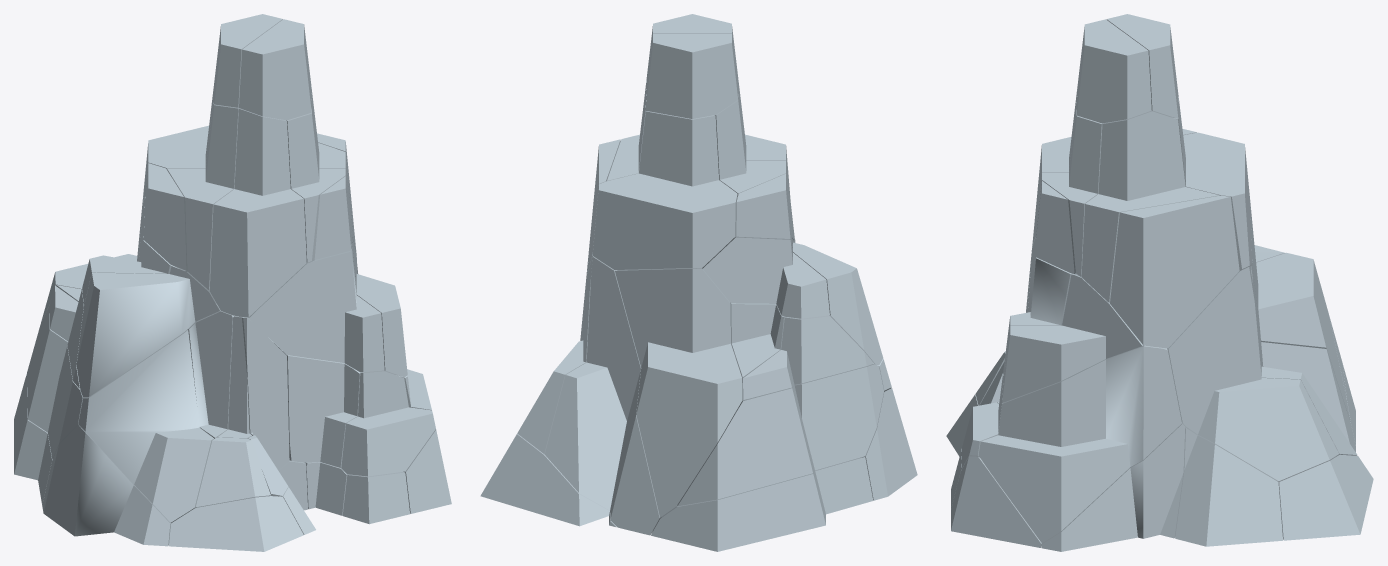
The model's file is formation_stone_destruct.fbx.
3 views of the same model, side by side, from view 1: azimuth 30°, elevation 25°; view 2: azimuth 150°, elevation 25°; view 3: azimuth 270°, elevation 25° (orthographic). The views are drawn at different scales.
Parts seen in each view (by area): view 1: formation_stone_cell.016, formation_stone_cell.021, formation_stone_cell.030, formation_stone_cell.022, formation_stone_cell.002, formation_stone_cell.027, formation_stone_cell.009, formation_stone_cell.032, formation_stone_cell, formation_stone_cell.033, formation_stone_cell.026, formation_stone_cell.005 (+20 smaller); view 2: formation_stone_cell.023, formation_stone_cell.024, formation_stone_cell.036, formation_stone_cell.005, formation_stone_cell.018, formation_stone_cell.029, formation_stone_cell.038, formation_stone_cell.008, formation_stone_cell.025, formation_stone_cell.030, formation_stone_cell.002, formation_stone_cell (+7 smaller); view 3: formation_stone_cell.014, formation_stone_cell.001, formation_stone_cell.007, formation_stone_cell.020, formation_stone_cell.019, formation_stone_cell.028, formation_stone_cell.003, formation_stone_cell.023, formation_stone_cell.025, formation_stone_cell.032, formation_stone_cell.024, formation_stone_cell.036 (+8 smaller).
Part boxes in pixels (bbox=[...]): formation_stone_cell.016: bbox=[78, 329, 213, 523]; formation_stone_cell.021: bbox=[209, 108, 306, 317]; formation_stone_cell.030: bbox=[76, 266, 219, 397]; formation_stone_cell.022: bbox=[248, 243, 384, 372]; formation_stone_cell.002: bbox=[42, 425, 170, 546]; formation_stone_cell.027: bbox=[341, 371, 435, 476]; formation_stone_cell.009: bbox=[268, 337, 363, 467]; formation_stone_cell.032: bbox=[239, 19, 311, 120]; formation_stone_cell: bbox=[167, 103, 239, 303]; formation_stone_cell.033: bbox=[169, 496, 303, 551]; formation_stone_cell.026: bbox=[239, 316, 289, 470]; formation_stone_cell.005: bbox=[27, 305, 83, 459]; formation_stone_cell.023: bbox=[615, 268, 742, 517]; formation_stone_cell.024: bbox=[593, 111, 737, 270]; formation_stone_cell.036: bbox=[545, 257, 661, 535]; formation_stone_cell.005: bbox=[677, 364, 883, 506]; formation_stone_cell.018: bbox=[651, 457, 873, 551]; formation_stone_cell.029: bbox=[645, 33, 738, 118]; formation_stone_cell.038: bbox=[703, 237, 829, 318]; formation_stone_cell.008: bbox=[743, 315, 873, 399]; formation_stone_cell.025: bbox=[480, 433, 616, 527]; formation_stone_cell.030: bbox=[792, 239, 883, 365]; formation_stone_cell.002: bbox=[862, 388, 917, 500]; formation_stone_cell: bbox=[715, 88, 793, 239]; formation_stone_cell.014: bbox=[978, 345, 1181, 542]; formation_stone_cell.001: bbox=[1167, 267, 1338, 481]; formation_stone_cell.007: bbox=[1110, 195, 1239, 348]; formation_stone_cell.020: bbox=[1081, 111, 1219, 303]; formation_stone_cell.019: bbox=[1175, 428, 1282, 546]; formation_stone_cell.028: bbox=[1002, 274, 1142, 402]; formation_stone_cell.003: bbox=[1042, 423, 1186, 551]; formation_stone_cell.023: bbox=[1250, 203, 1350, 421]; formation_stone_cell.025: bbox=[1277, 454, 1373, 540]; formation_stone_cell.032: bbox=[1076, 19, 1151, 123]; formation_stone_cell.024: bbox=[1174, 92, 1252, 270]; formation_stone_cell.036: bbox=[1182, 263, 1357, 455].
Size of the model in its own units: 106 by 122 by 107.
